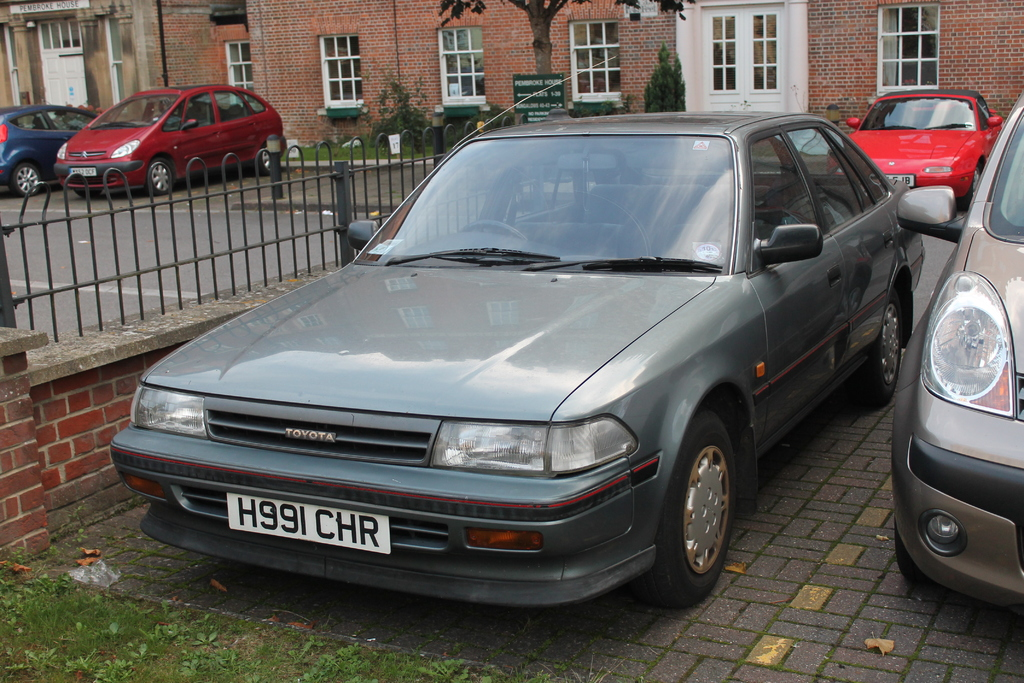Car: (120, 93, 921, 621), (886, 94, 1023, 616), (58, 92, 282, 194), (830, 83, 996, 210), (3, 102, 101, 194)
